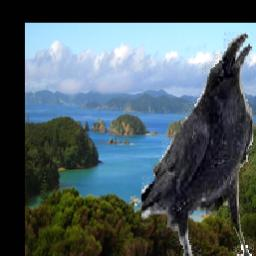Crow: (140, 33, 255, 256)
